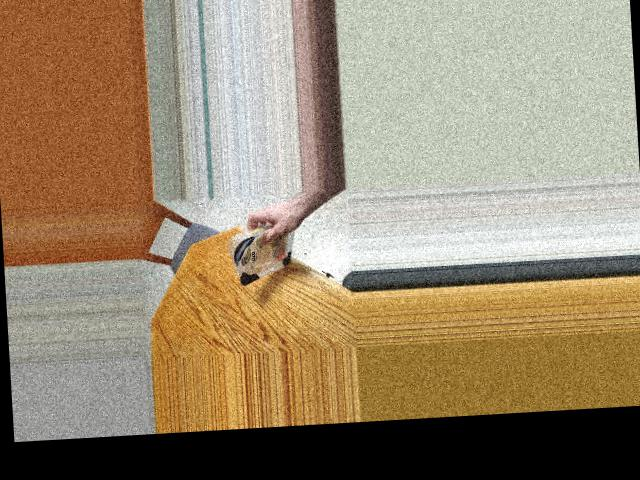cheese: (231, 226, 304, 281)
